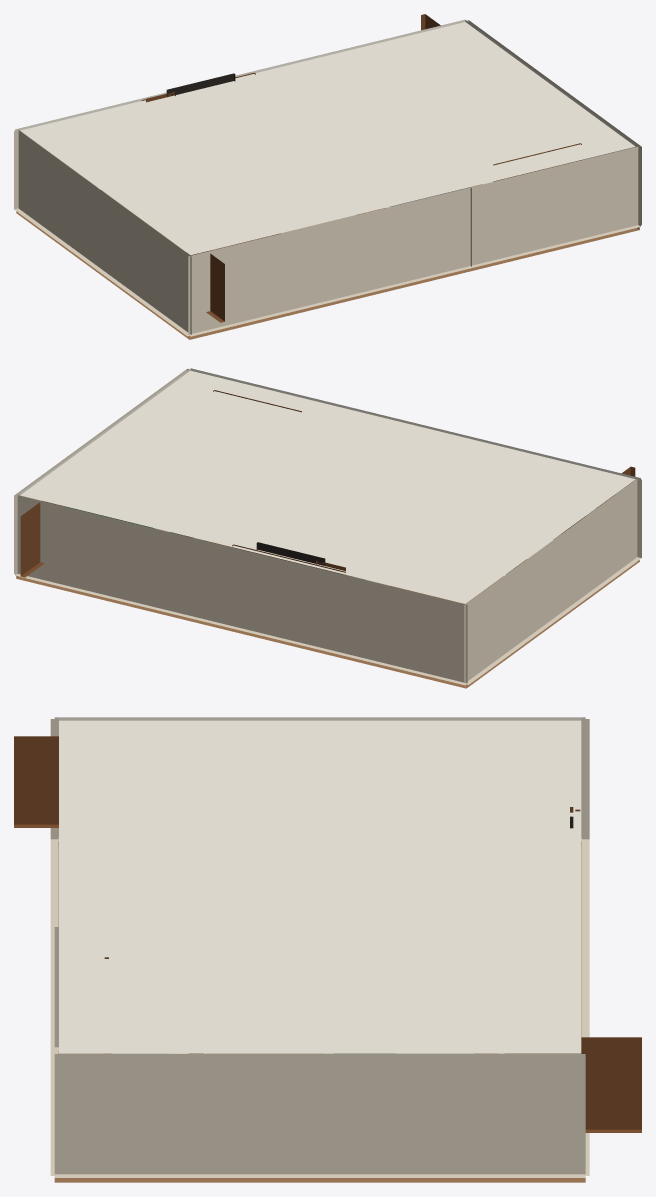
File: apartment-approximation.glb
The picture shows the model from 3 angles, top to bottom: view 1: azimuth 30°, elevation 25°; view 2: azimuth 150°, elevation 25°; view 3: azimuth 270°, elevation 25°; orthographic projection. The views are drawn at different scales.
Visible parts, largest first — view 1: Ceiling, North wall, West wall, Floor, Guest curtain, East wall, TV, South wall; view 2: Ceiling, South wall, West wall, Floor, Living curtain, East wall, TV, North wall; view 3: Ceiling, East wall, Living curtain, Guest curtain, Floor, South wall, North wall.
Part boxes in pixels (<box>): Ceiling: <box>20,20,635,255</box>; North wall: <box>188,146,640,336</box>; West wall: <box>14,130,191,336</box>; Floor: <box>16,184,639,339</box>; Guest curtain: <box>186,251,224,322</box>; East wall: <box>466,20,641,225</box>; TV: <box>166,73,235,97</box>; South wall: <box>15,19,464,209</box>; Ceiling: <box>20,368,635,603</box>; South wall: <box>15,495,467,685</box>; West wall: <box>464,478,641,684</box>; Floor: <box>16,560,639,688</box>; Living curtain: <box>20,501,64,577</box>; East wall: <box>14,368,188,574</box>; TV: <box>256,542,325,565</box>; North wall: <box>190,368,640,557</box>; Ceiling: <box>59,717,581,1053</box>; East wall: <box>54,1054,585,1177</box>; Living curtain: <box>505,1037,641,1132</box>; Guest curtain: <box>14,736,58,827</box>; Floor: <box>54,841,585,1182</box>; South wall: <box>581,719,589,1175</box>; North wall: <box>50,719,58,1175</box>.
Bounding box in the file's own units: 18.18 × 3.46 × 14.19.
